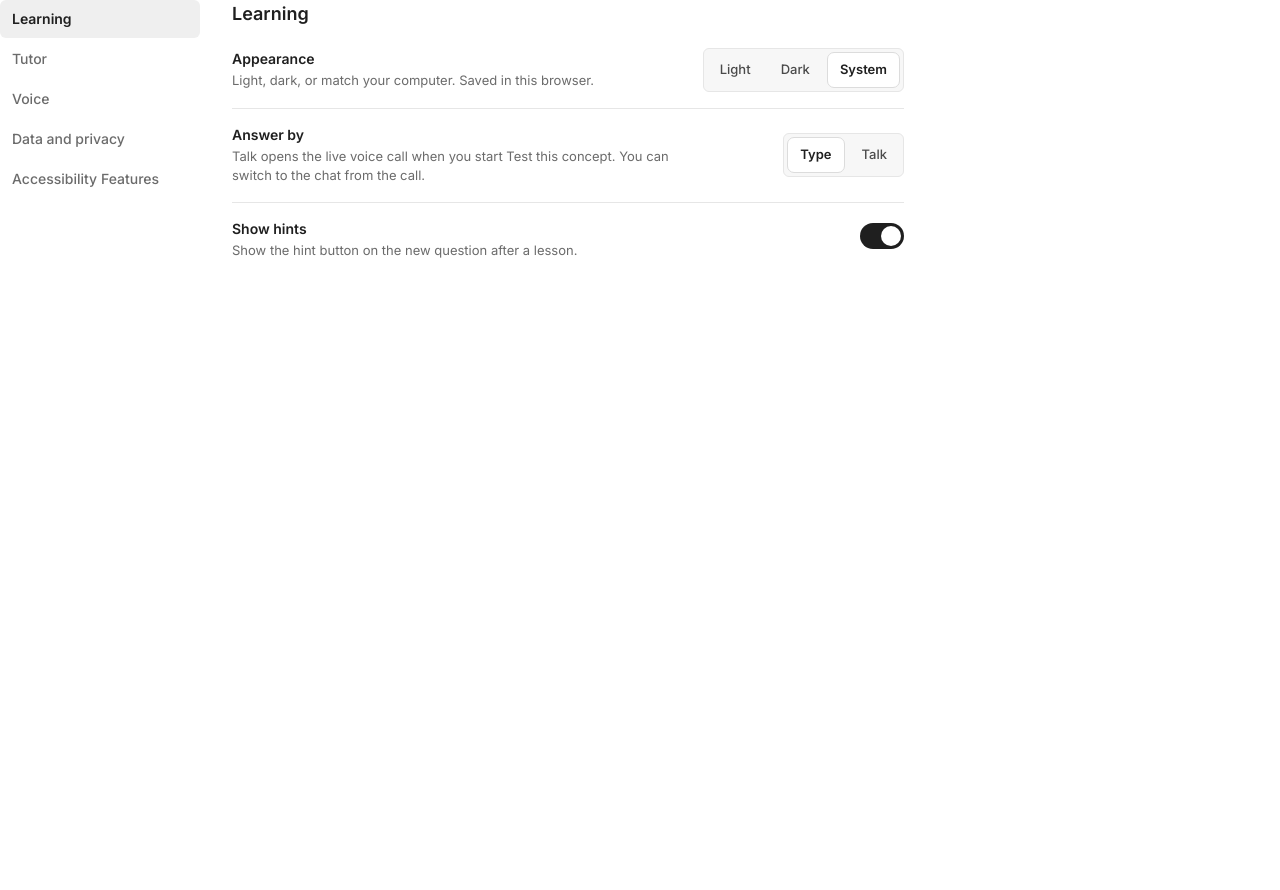
Accessibility Features settings › shows line focus when it is switched on, and resets everything at once
This screenshot has width=1280, height=890.
Click the tab "Accessibility Features": x=100, y=179 [0,160,200,198]
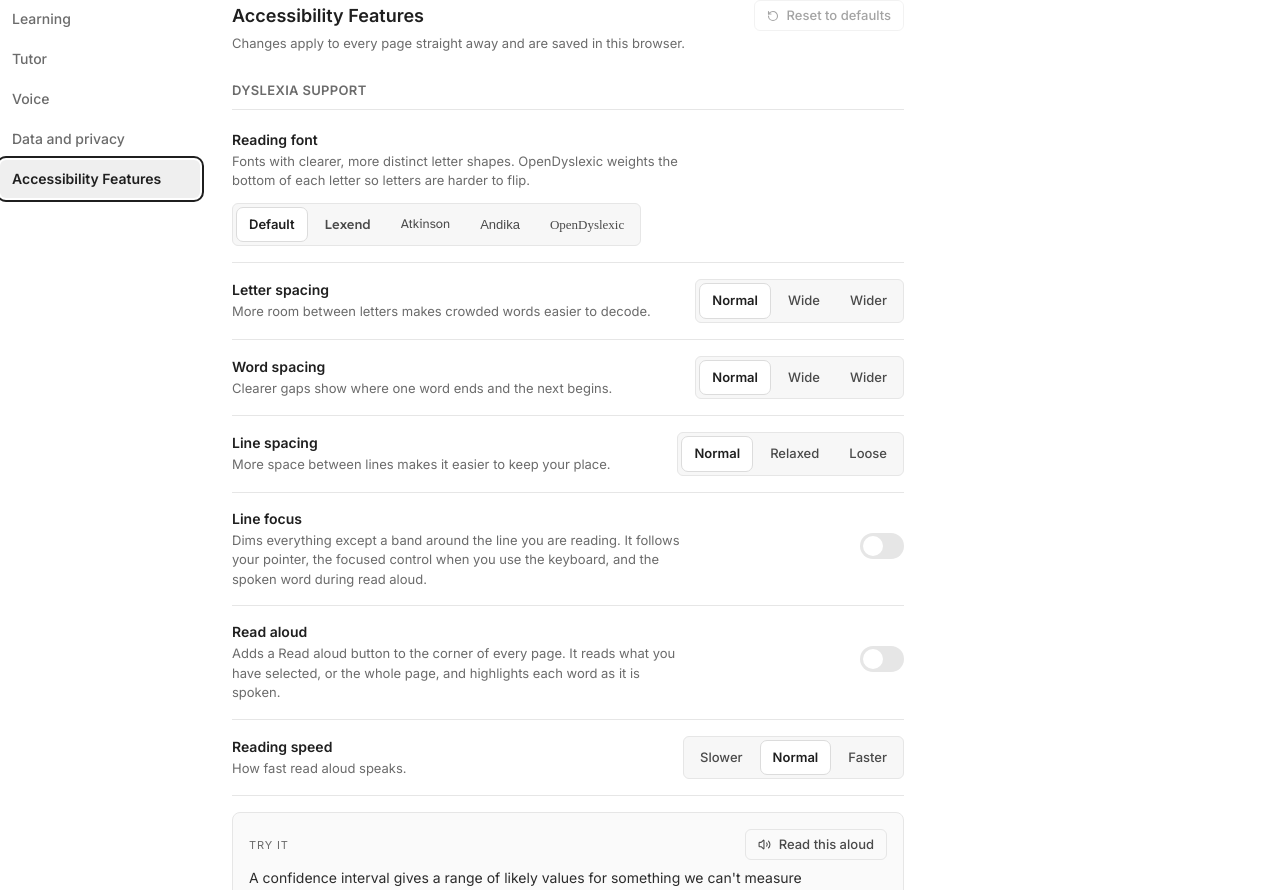
Click the switch named "Line focus": x=882, y=546 [860,533,904,559]
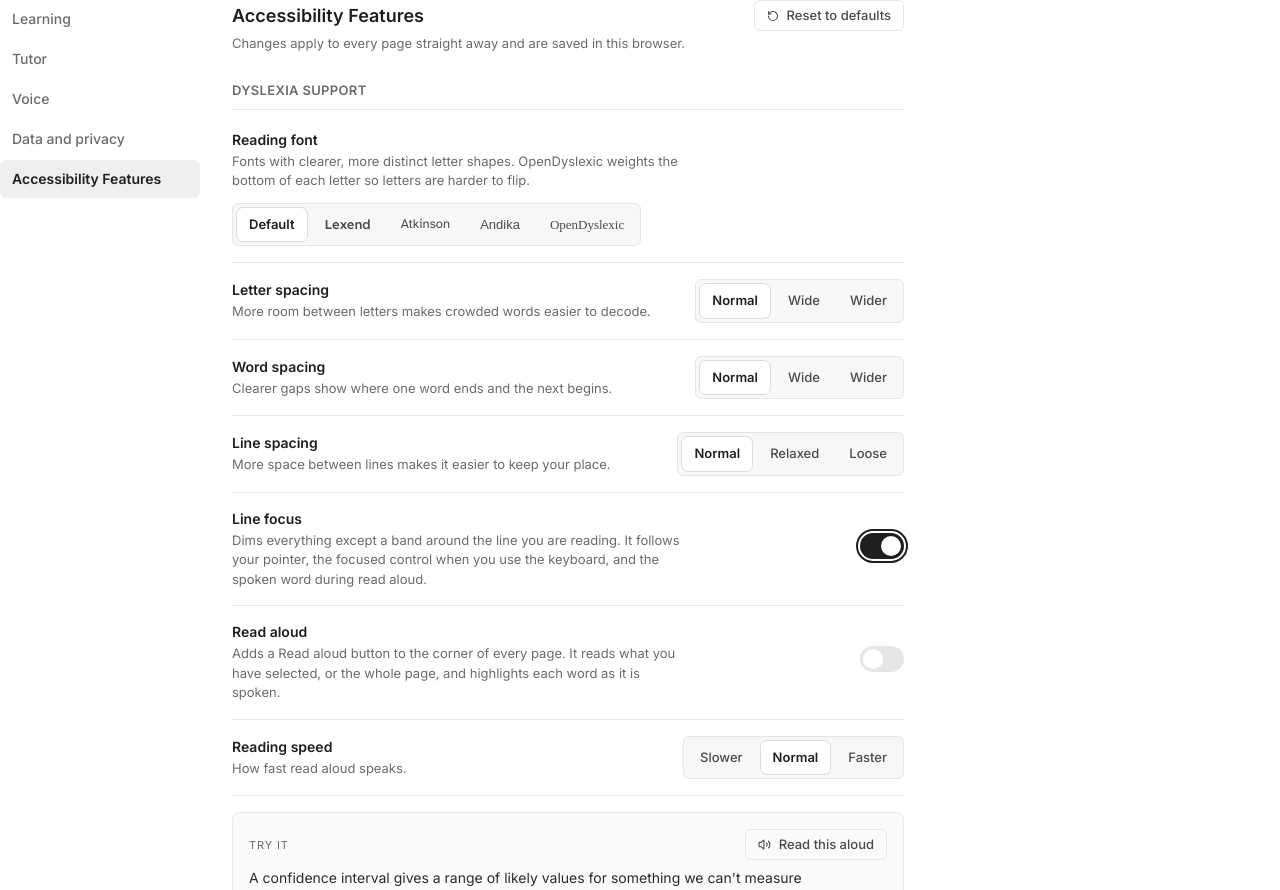
Click the button "Lexend": x=348, y=224 [312,207,384,242]
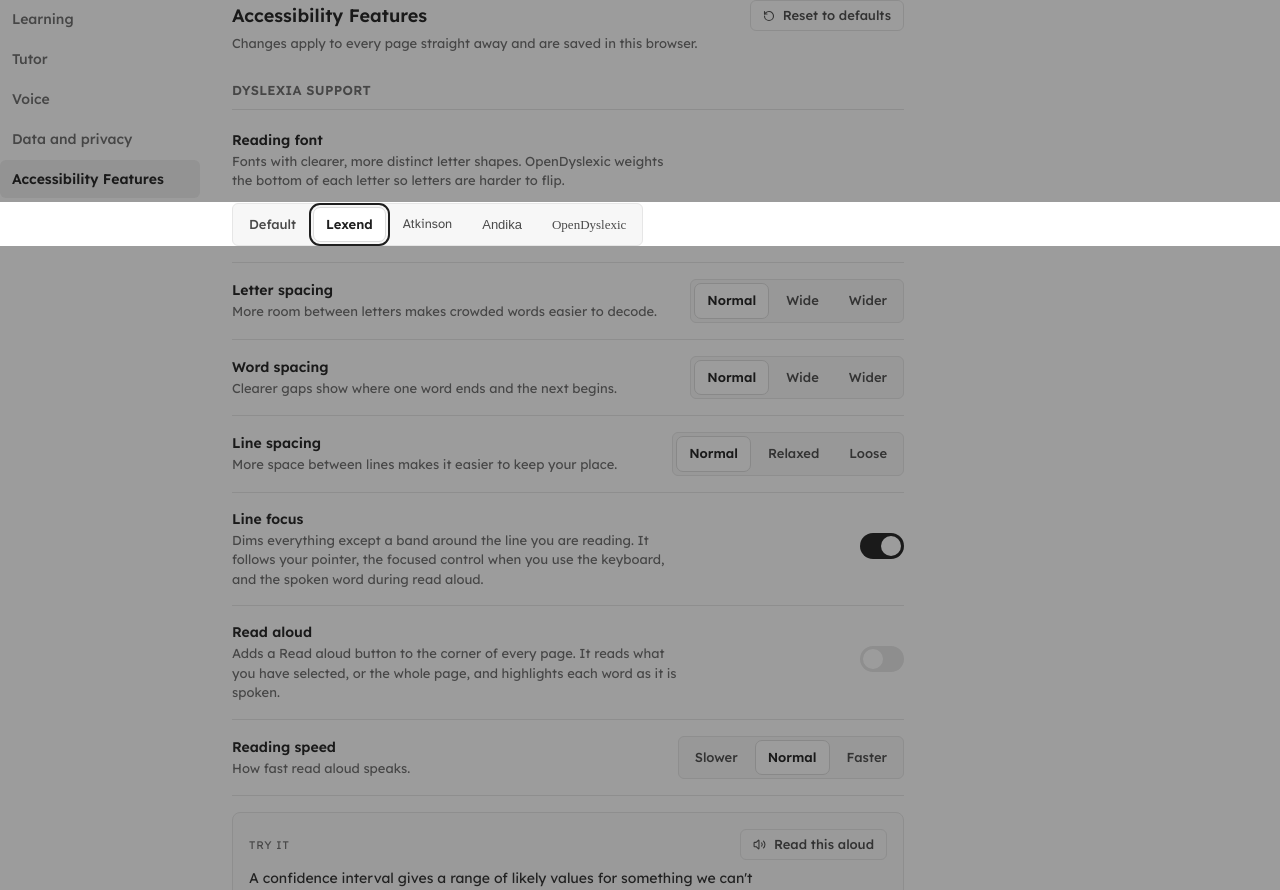
Click the button "Reset to defaults": x=827, y=16 [750,0,904,31]
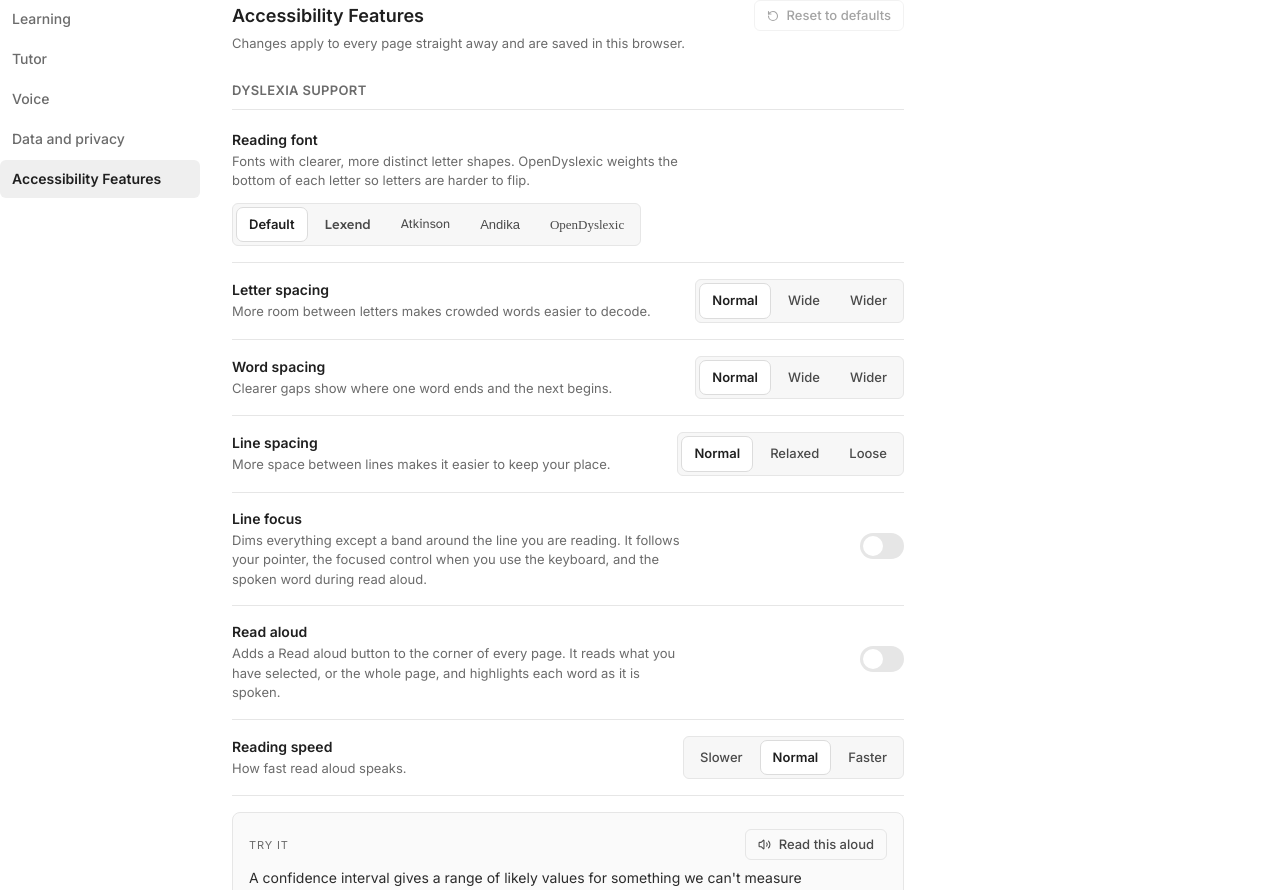
Result: the button "Reset to defaults" is disabled at [754,0,904,31]
